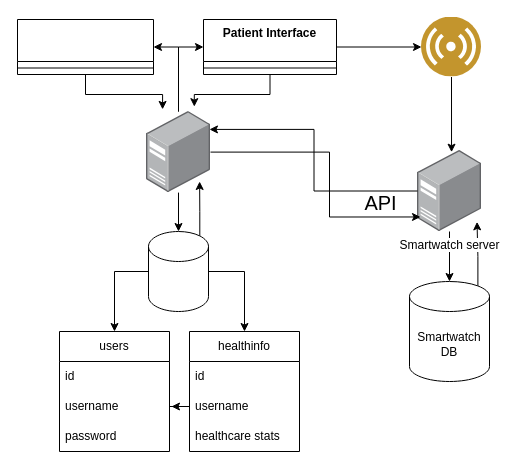
The diagram is 517 pixels wide and 469 high, and some of its shapes have lost their labels. Each missing label, with the centre of its shape:
"Doctor Interface (Developing)" belongs at [85,46].
"Smartwatch (Developing)" belongs at [451,46].
"WebApp DB" belongs at [178,271].
